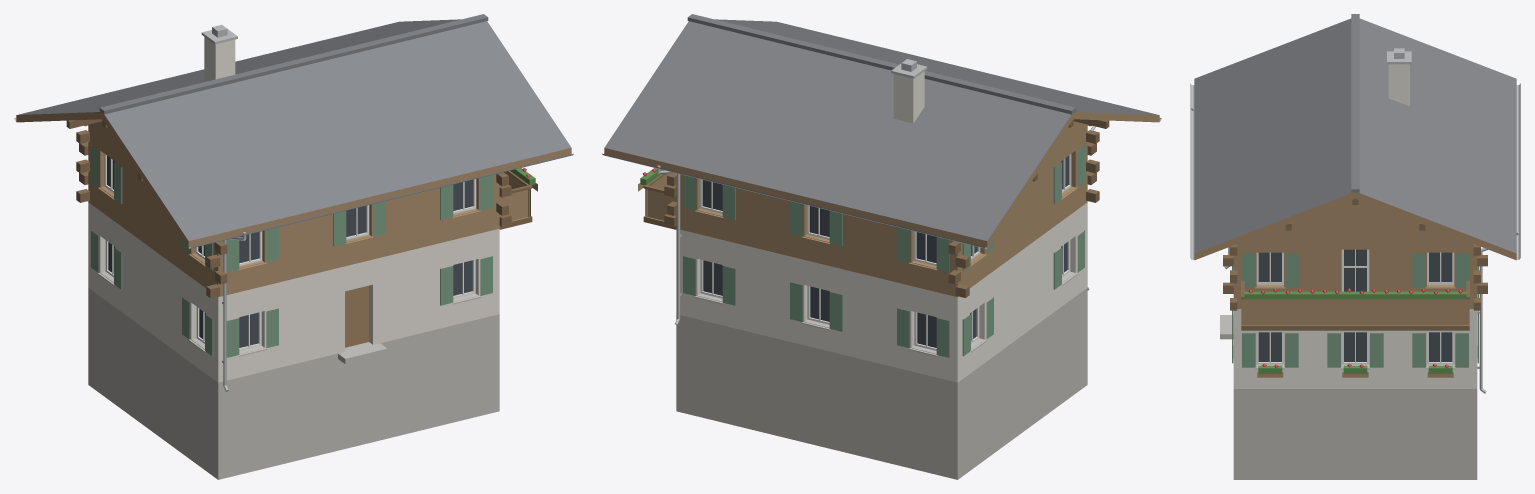
Rendered from chalet_2_s.glb.
The picture shows the model from 3 angles, left to right: view 1: azimuth 30°, elevation 25°; view 2: azimuth 150°, elevation 25°; view 3: azimuth 270°, elevation 25°; orthographic projection. The views are drawn at different scales.
Visible parts, largest first — view 1: chalet_2_s; view 2: chalet_2_s; view 3: chalet_2_s.
Part boxes in pixels (<box>): chalet_2_s: <box>14,14,573,479</box>; chalet_2_s: <box>602,14,1161,479</box>; chalet_2_s: <box>1190,14,1520,479</box>.
Size of the model in its own units: 13.64 by 12.4 by 10.85.
